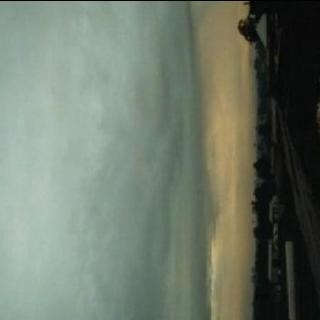Stratocumulus: (0, 0, 261, 320)
